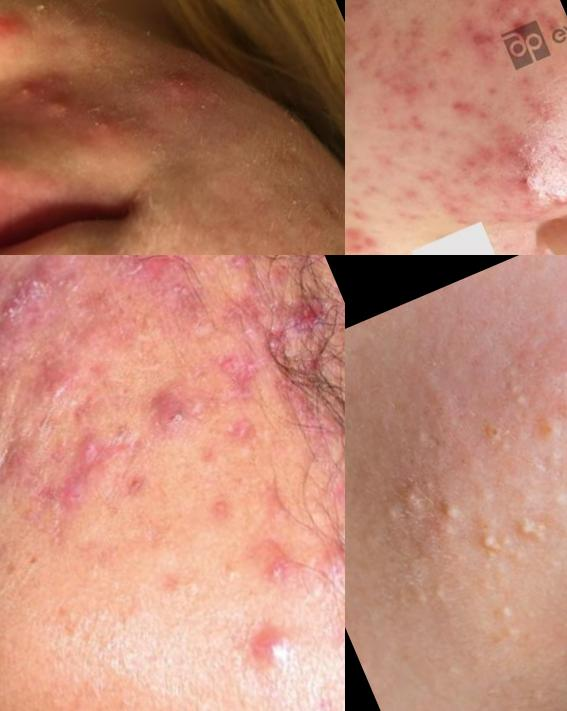acne_scars: (430, 85, 482, 132), (346, 209, 386, 256), (463, 22, 502, 56)
cystic: (159, 61, 216, 116), (1, 1, 39, 64)
keloid: (1, 256, 127, 410)
milium: (374, 483, 437, 538), (430, 490, 484, 540), (511, 510, 561, 561), (535, 448, 567, 513), (471, 520, 517, 565), (543, 372, 567, 450), (484, 595, 523, 632), (408, 420, 446, 456), (543, 507, 567, 559)
papular: (10, 409, 134, 536), (239, 609, 315, 689), (137, 374, 210, 448), (383, 4, 455, 72), (367, 56, 434, 126), (90, 92, 149, 152), (511, 73, 567, 136), (255, 541, 310, 602), (30, 89, 82, 133), (5, 62, 46, 104), (500, 163, 544, 201), (346, 30, 363, 77)
sebo-crystan-conglo: (478, 1, 538, 36), (543, 170, 567, 216)
whitehead: (206, 547, 257, 603)
